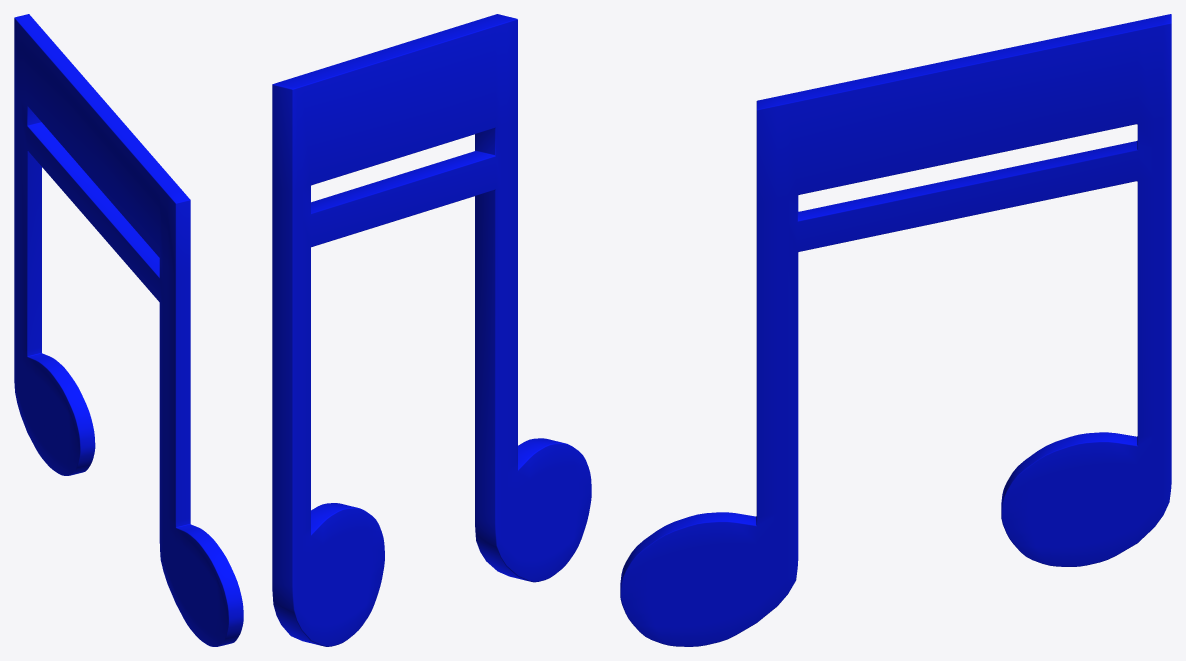
Rendered from musicNotes_02.fbx.
3 renders of one model, left to right at view 1: azimuth 30°, elevation 25°; view 2: azimuth 150°, elevation 25°; view 3: azimuth 270°, elevation 25°, orthographic. The views are drawn at different scales.
Visible parts, largest first — view 1: Cube.001; view 2: Cube.001; view 3: Cube.001.
Boxes of the visible parts, left/top/right/bottom form: Cube.001: left=14, top=14, right=243, bottom=646; Cube.001: left=272, top=14, right=591, bottom=646; Cube.001: left=620, top=14, right=1171, bottom=646.
Bounding box in the file's own units: 1.83 × 56.25 × 45.03.
